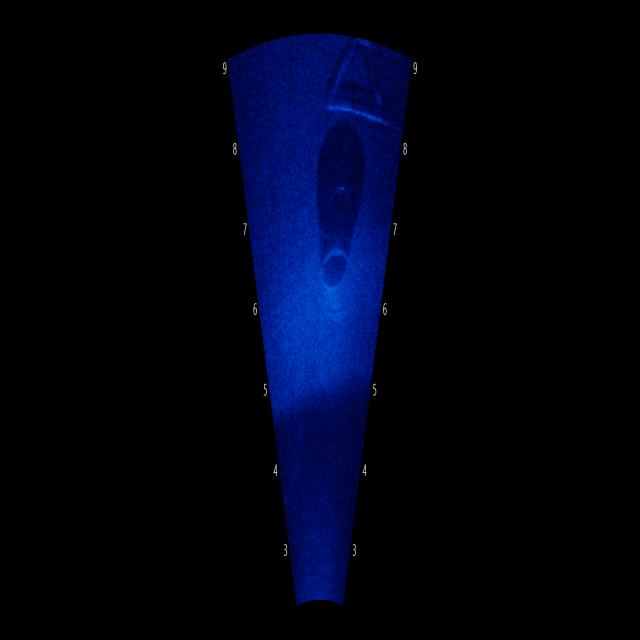circle: (307, 227, 361, 346)
triangle: (308, 38, 391, 146)
